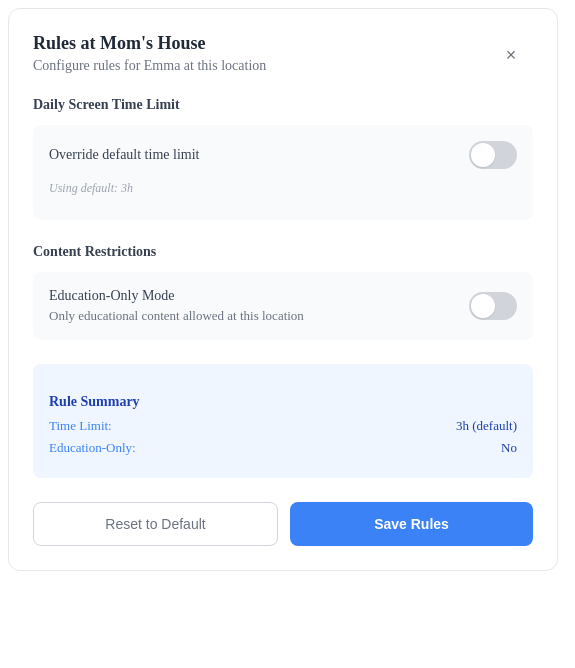
LocationRuleEditor › Time Limit Configuration (AC2) › updates time value when slider changes
The width and height of the screenshot is (575, 668).
Click the switch with test id "override-toggle". click: x=493, y=155
box: x1=469 y1=141 x2=517 y2=169
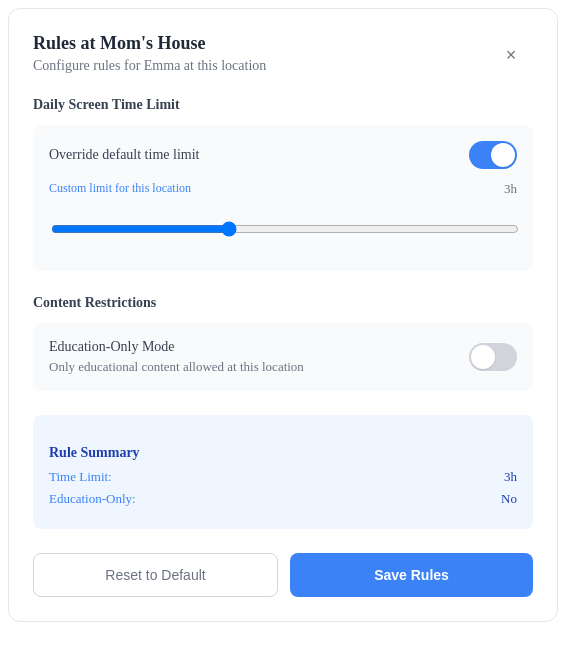
Set the slider with test id "time-slider" to "120". click: x=172, y=229
box: x1=51 y1=207 x2=519 y2=251
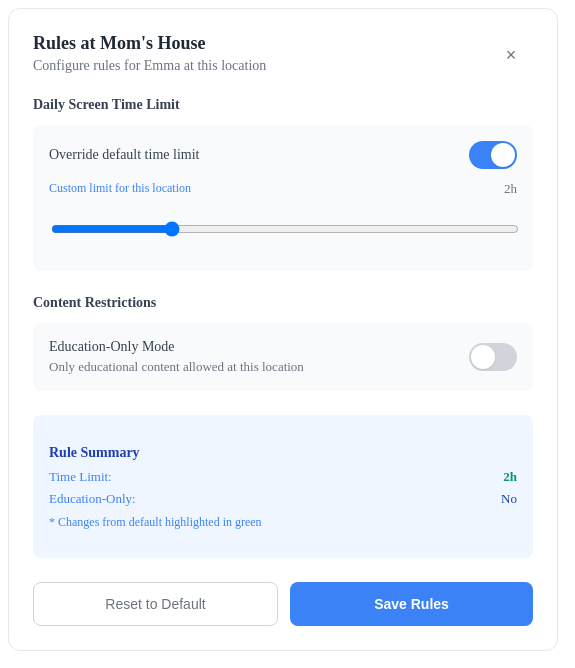
Expected: the text with test id "time-value" reads "2h", x1=504 y1=181 x2=517 y2=196
